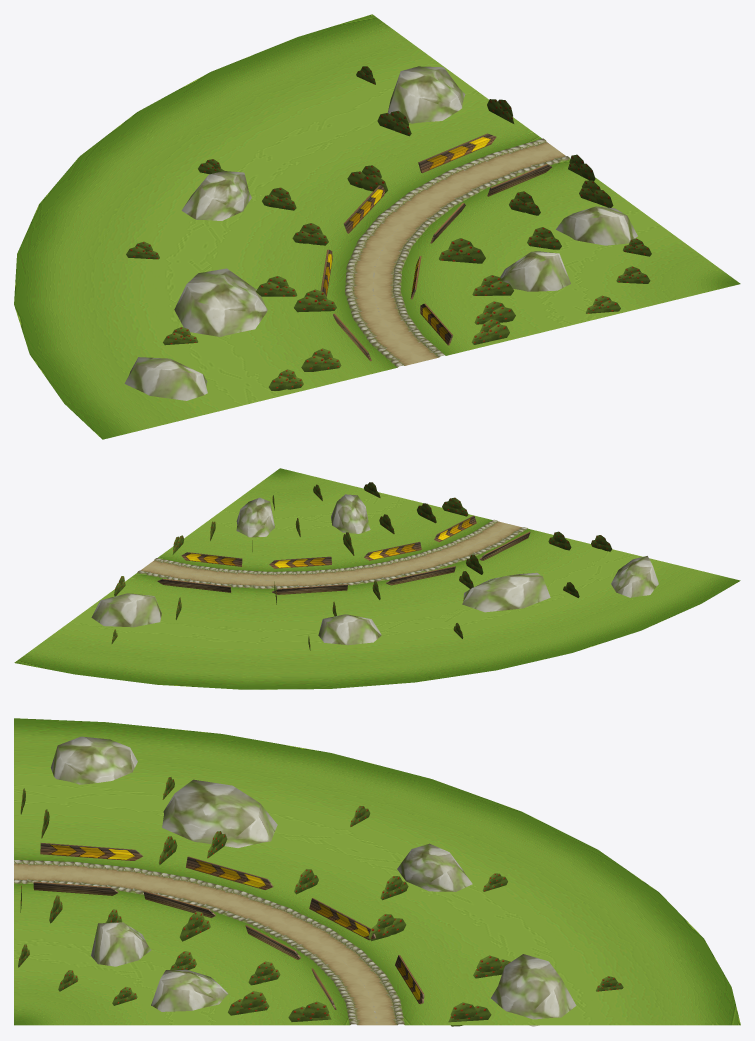
File: ForestRoad02_RightCurve.FBX
The picture shows the model from 3 angles, top to bottom: view 1: azimuth 30°, elevation 25°; view 2: azimuth 150°, elevation 25°; view 3: azimuth 270°, elevation 25°; orthographic projection. The views are drawn at different scales.
Parts seen in each view (by area): view 1: Road, Stone (×6), Bush (×2), Fence; view 2: Road, Stone (×6), Fence (×7); view 3: Road, Stone (×6), Fence (×6), Bush (×6).
Part boxes in pixels (box(x1,y1,x2,y2)): Road: box(14, 14, 740, 439); Stone (×6): box(124, 66, 637, 400); Bush (×2): box(347, 165, 485, 263); Fence: box(418, 133, 496, 173); Road: box(14, 468, 740, 689); Stone (×6): box(91, 494, 658, 645); Fence (×7): box(157, 515, 476, 594); Road: box(14, 718, 740, 1025); Stone (×6): box(51, 736, 576, 1026); Fence (×6): box(33, 843, 424, 1004); Bush (×6): box(179, 911, 510, 1026).
Size of the model in its own units: 10000 by 630 by 10000.
